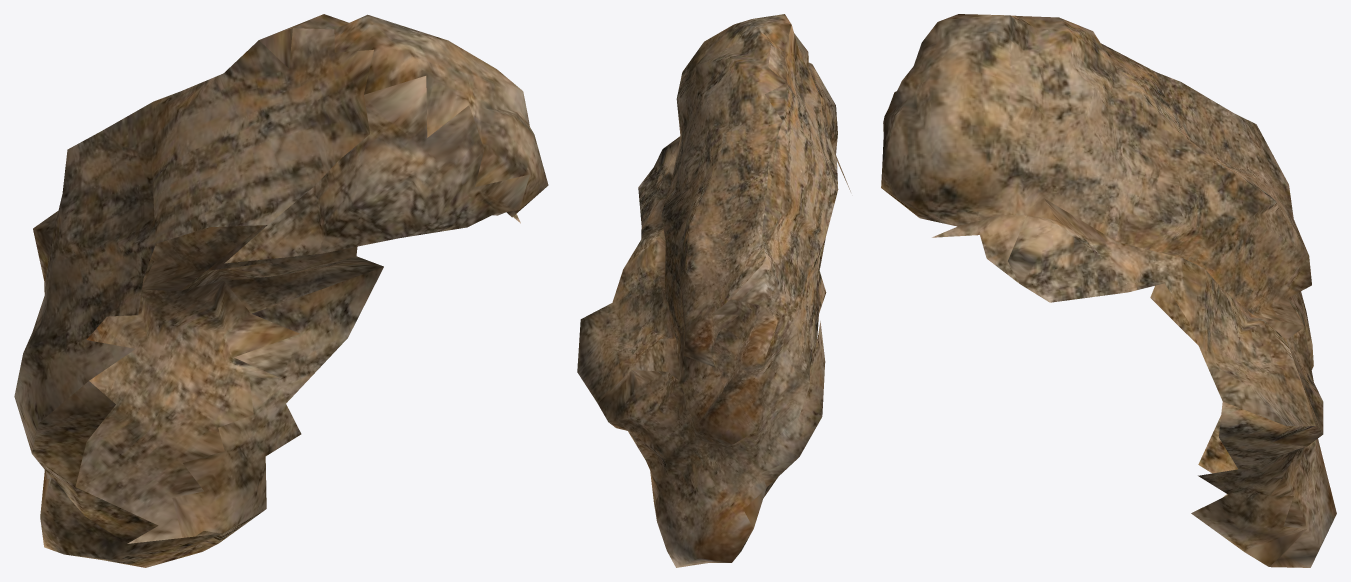
File: DirtPatch.fbx
3 renders of one model, left to right at view 1: azimuth 30°, elevation 25°; view 2: azimuth 150°, elevation 25°; view 3: azimuth 270°, elevation 25°, orthographic. The views are drawn at different scales.
Parts seen in each view (by area): view 1: DirtPatch; view 2: DirtPatch; view 3: DirtPatch.
Part boxes in pixels (x1,y1,x2,y2): DirtPatch: (14,14,548,567); DirtPatch: (577,14,850,567); DirtPatch: (881,14,1336,567).
Bounding box in the file's own units: 0.666 × 1.15 × 0.8276.
